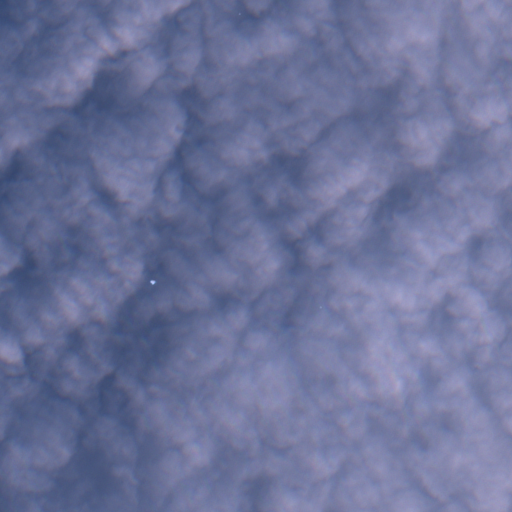Iceberg: (150, 280, 155, 284), (239, 13, 240, 14)
